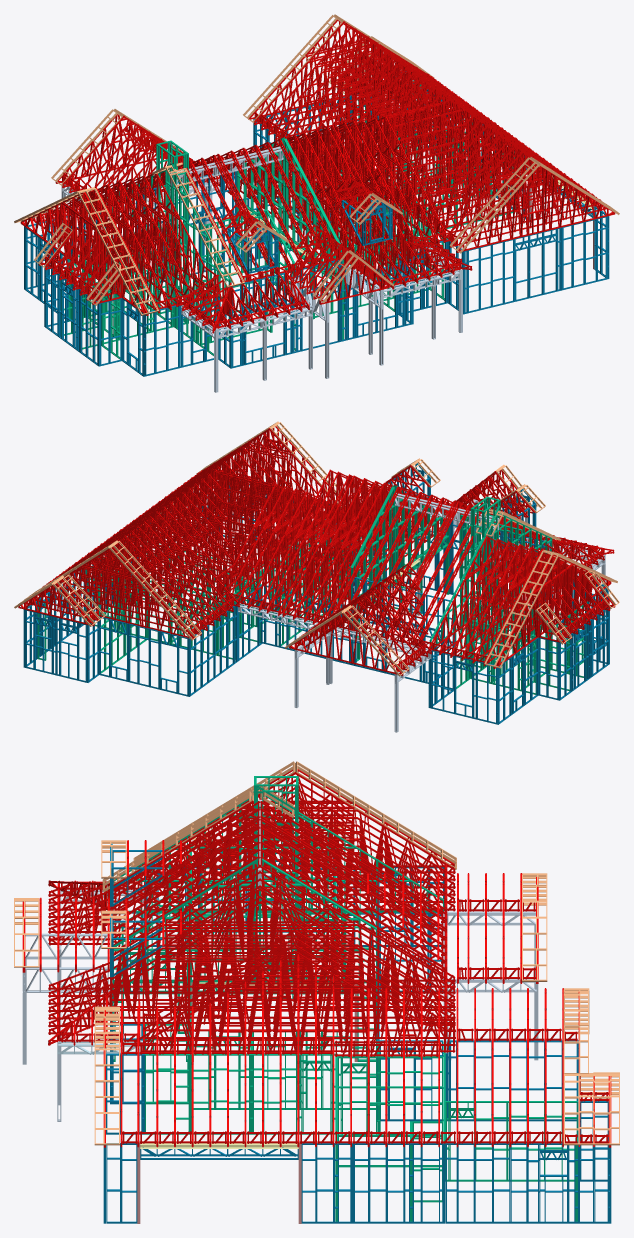
The model's file is davis-farm-house.glb.
The picture shows the model from 3 angles, top to bottom: view 1: azimuth 30°, elevation 25°; view 2: azimuth 150°, elevation 25°; view 3: azimuth 270°, elevation 25°; orthographic projection. The views are drawn at different scales.
Parts seen in each view (by area): view 1: part_05, part_00, part_01, part_04, part_02; view 2: part_05, part_00, part_01, part_04, part_02; view 3: part_05, part_01, part_00, part_04, part_02, part_06, part_07, part_03.
Boxes of the visible parts, x1,y1,x2,y2 form: part_05: (20, 19, 615, 333); part_00: (24, 71, 609, 376); part_01: (61, 81, 515, 359); part_04: (14, 14, 619, 315); part_02: (61, 146, 462, 392); part_05: (18, 426, 615, 675); part_00: (23, 463, 609, 724); part_01: (37, 485, 587, 694); part_04: (14, 421, 619, 676); part_02: (238, 493, 605, 732); part_05: (22, 769, 611, 1147); part_01: (112, 776, 577, 1221); part_00: (103, 843, 611, 1223); part_04: (14, 761, 619, 1145); part_02: (22, 799, 538, 1121); part_06: (140, 982, 354, 1148); part_07: (137, 982, 357, 1223); part_03: (57, 1040, 142, 1054).
Bounding box in the file's own units: 24.66 × 8.23 × 20.98.
